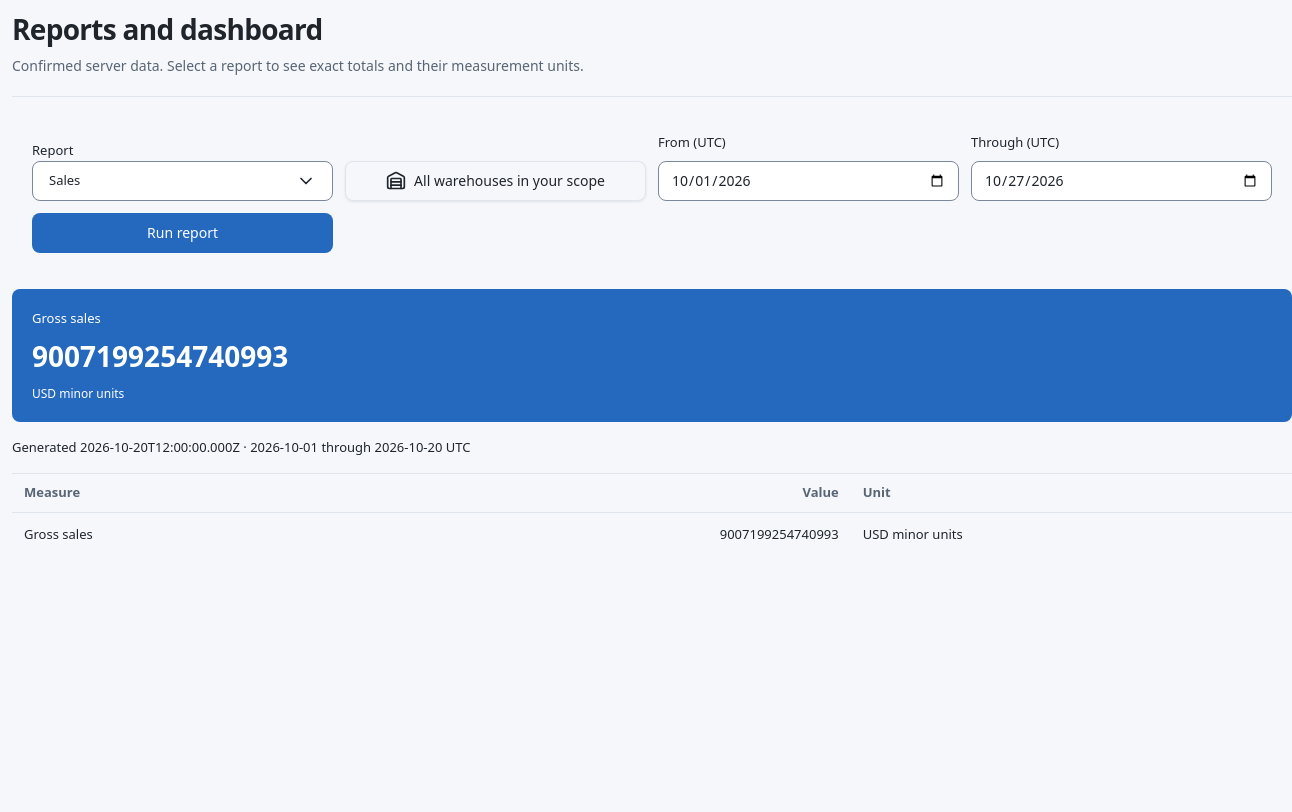
Test: renders exact accessible report tables and does not request invalid date ranges
Expected: the text "9007199254740993" is shown, 342,513 -> 851,557
Type "2020-01-01" into the date field labelled "From (UTC)".
click(808, 180); type("2020-01-01")  # box 658,160 -> 959,200
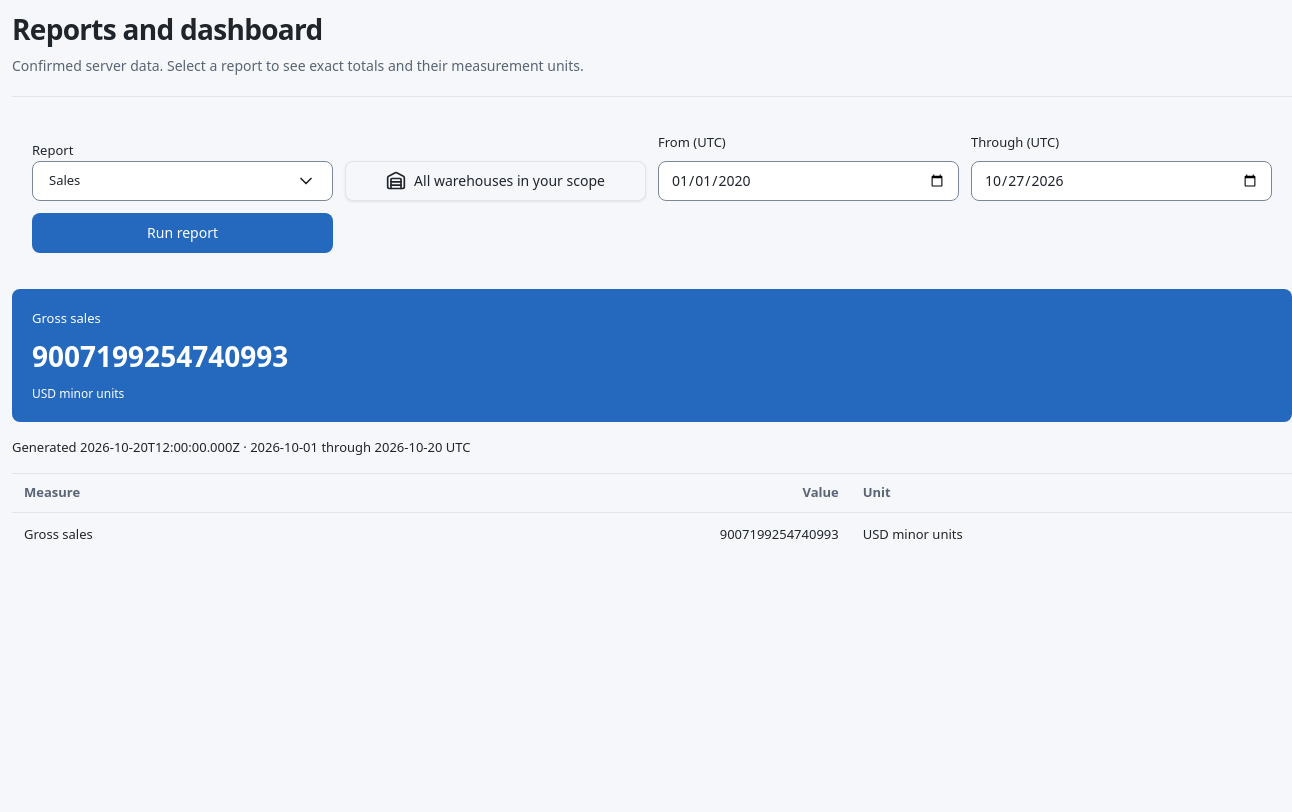
Click the button "Run report".
click(182, 232)  # box 32,212 -> 333,252
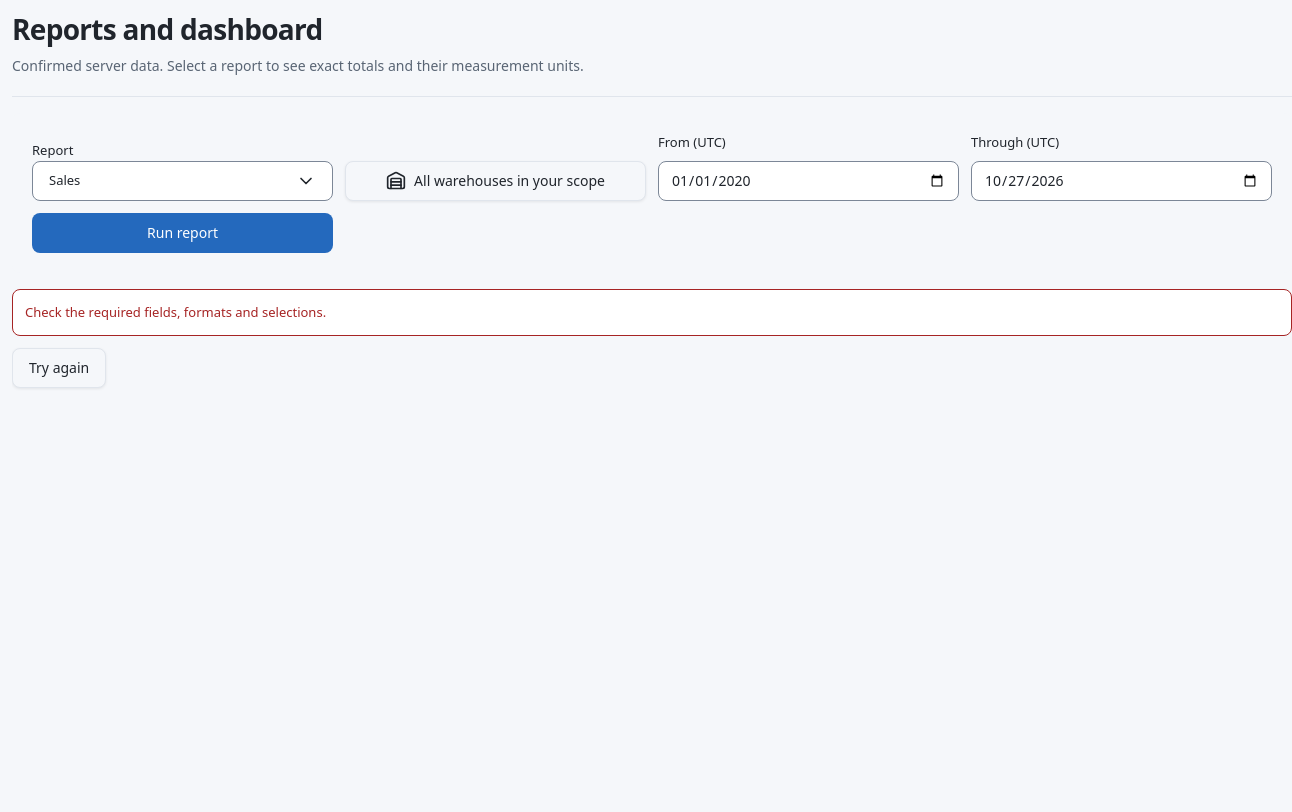
Result: the message "Check the required fields, formats and selections." is shown at 12,288 -> 1291,336
